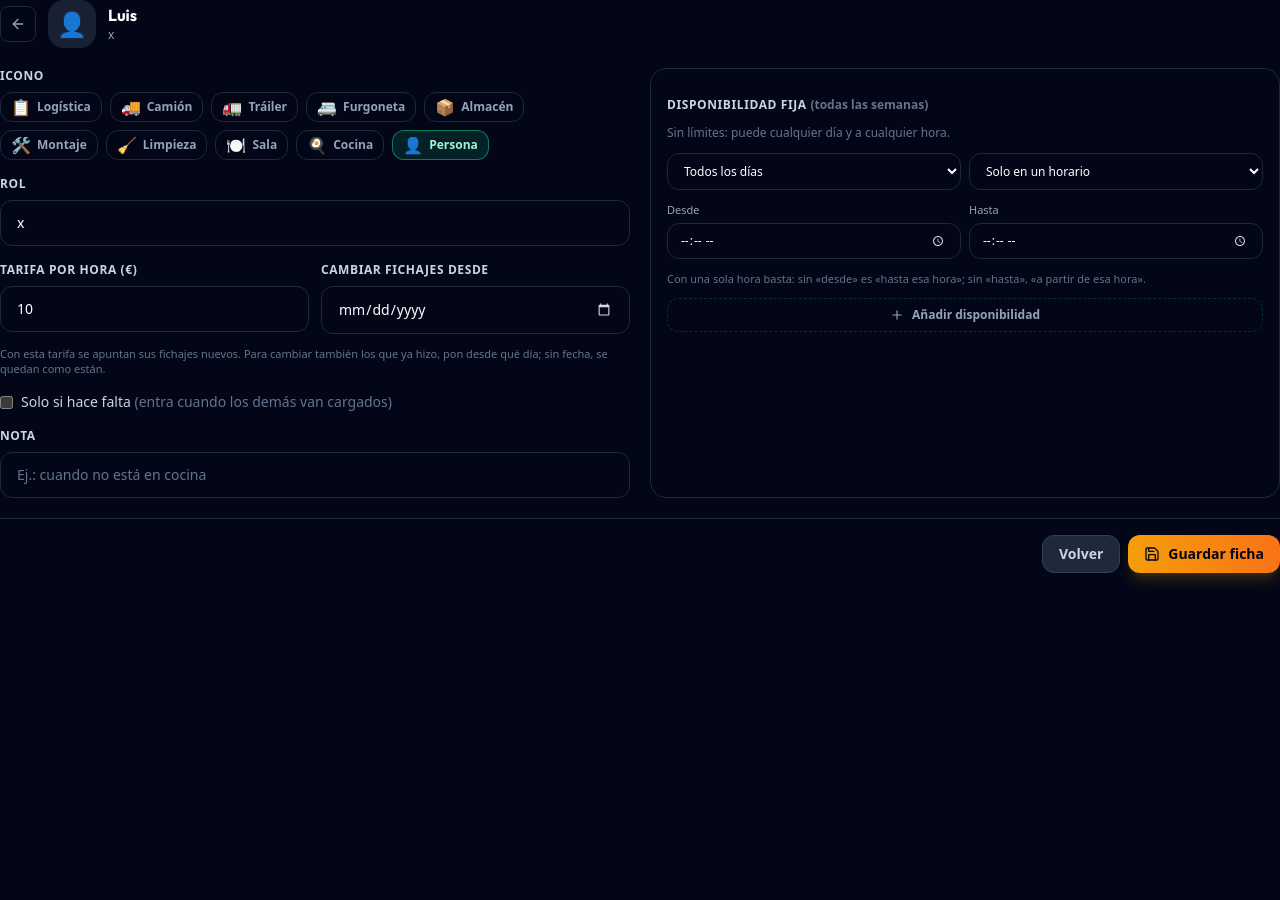
FichaTrabajador — grupos de días › tarifa por hora › con «desde el día 4», pregunta antes y cambia solo sus fichajes de ese día en adelante
Replace the text in the number field labelled "Tarifa por hora (€)" with "12": (154, 309) [0, 286, 309, 332]
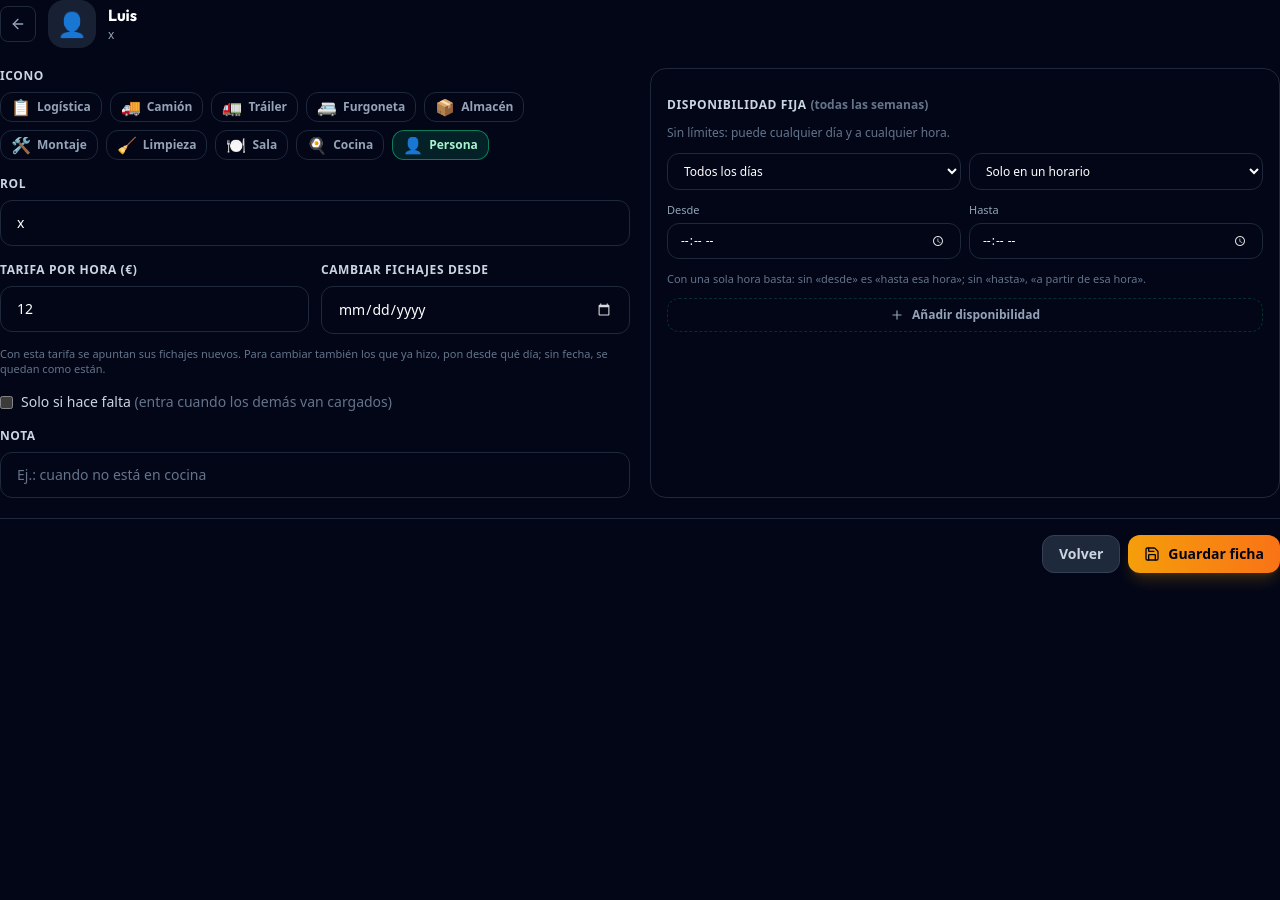
In the date field labelled "Cambiar fichajes desde": (476, 310) [321, 286, 630, 334], type "2026-10-04"
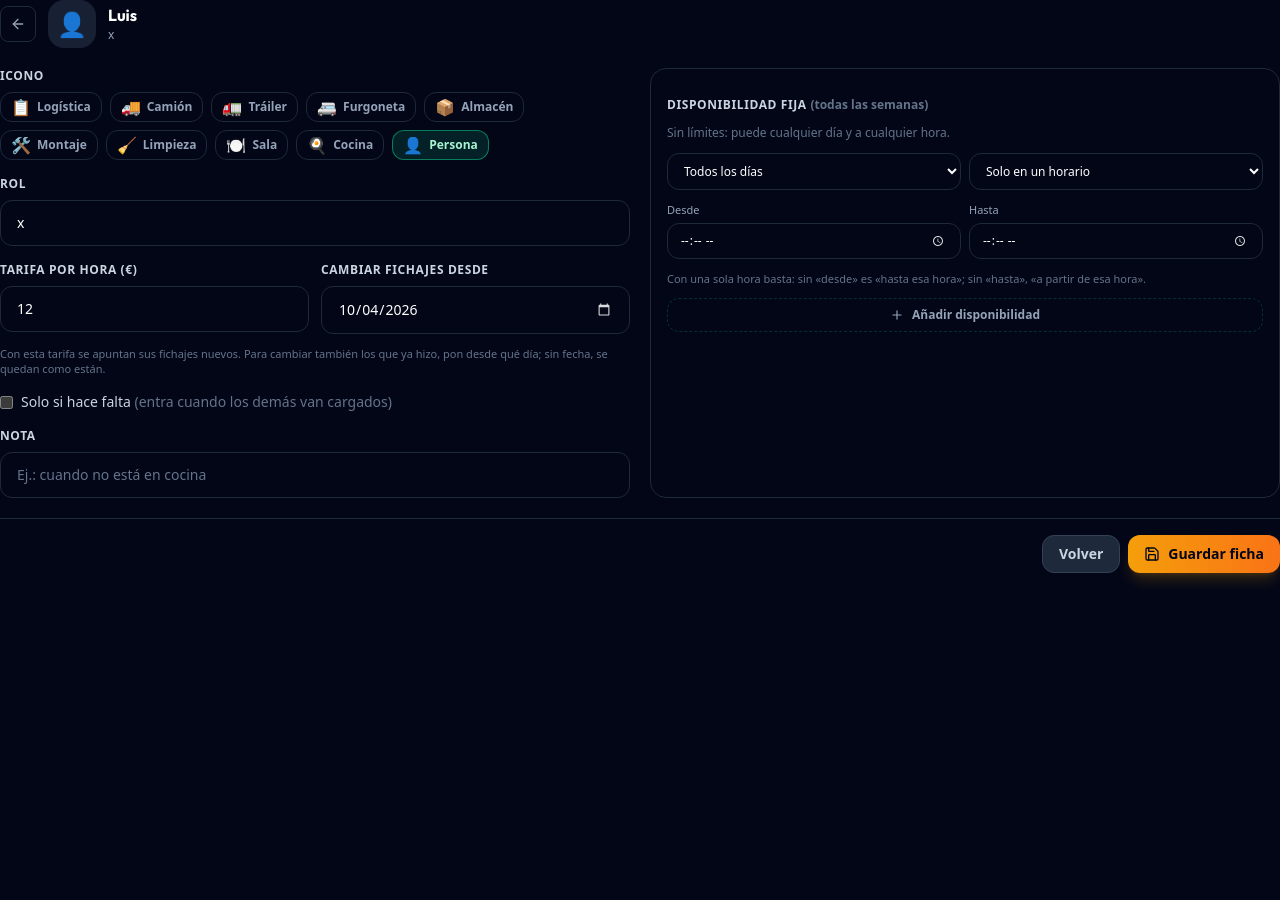
Click the button "Guardar ficha": (1204, 554) [1128, 535, 1279, 573]
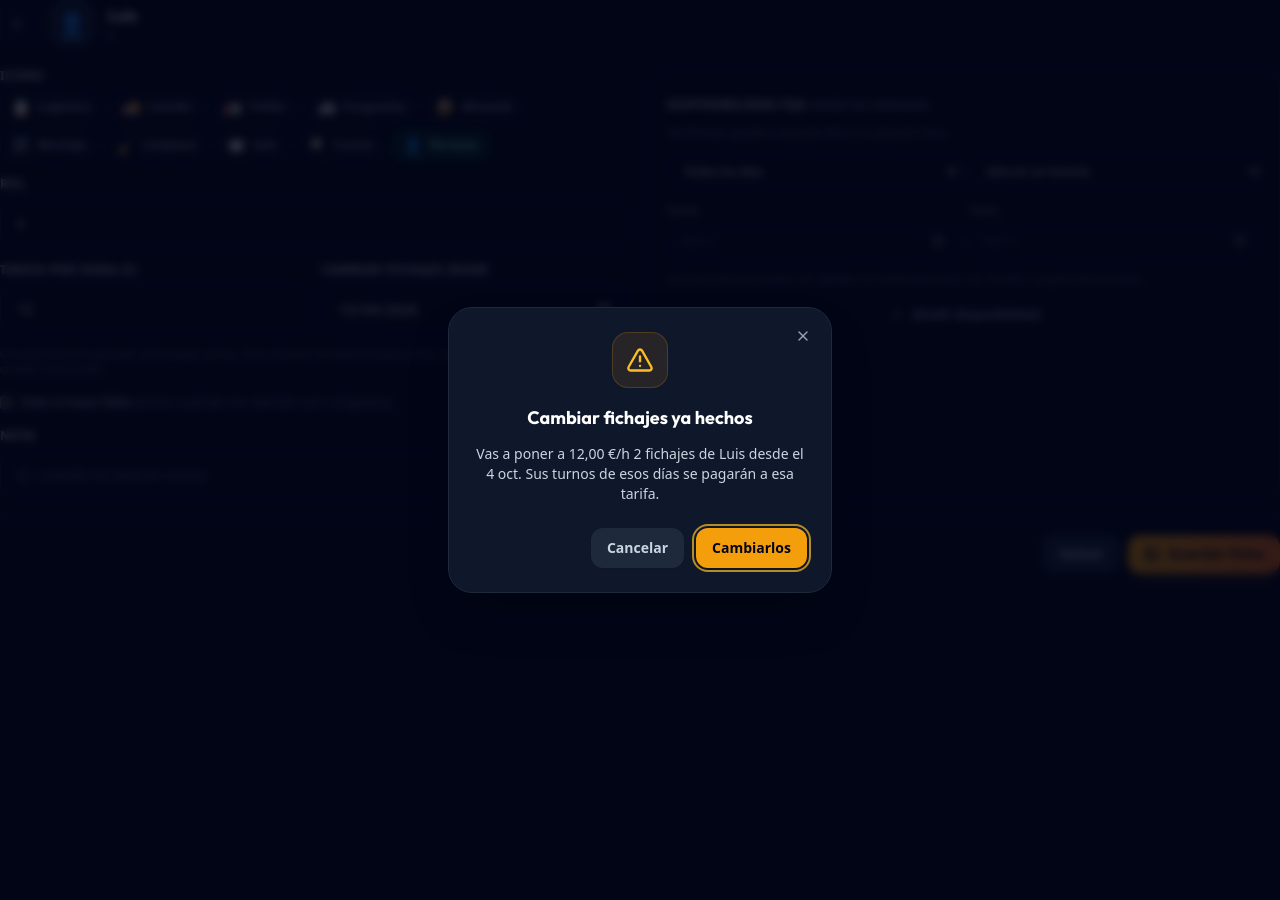
Result: the text "Vas a poner a 12,00 €/h 2 fichajes de Luis desde el 4 oct" is shown at [476, 444, 804, 503]
Click the button "Cambiarlos": (752, 548) [696, 528, 807, 568]
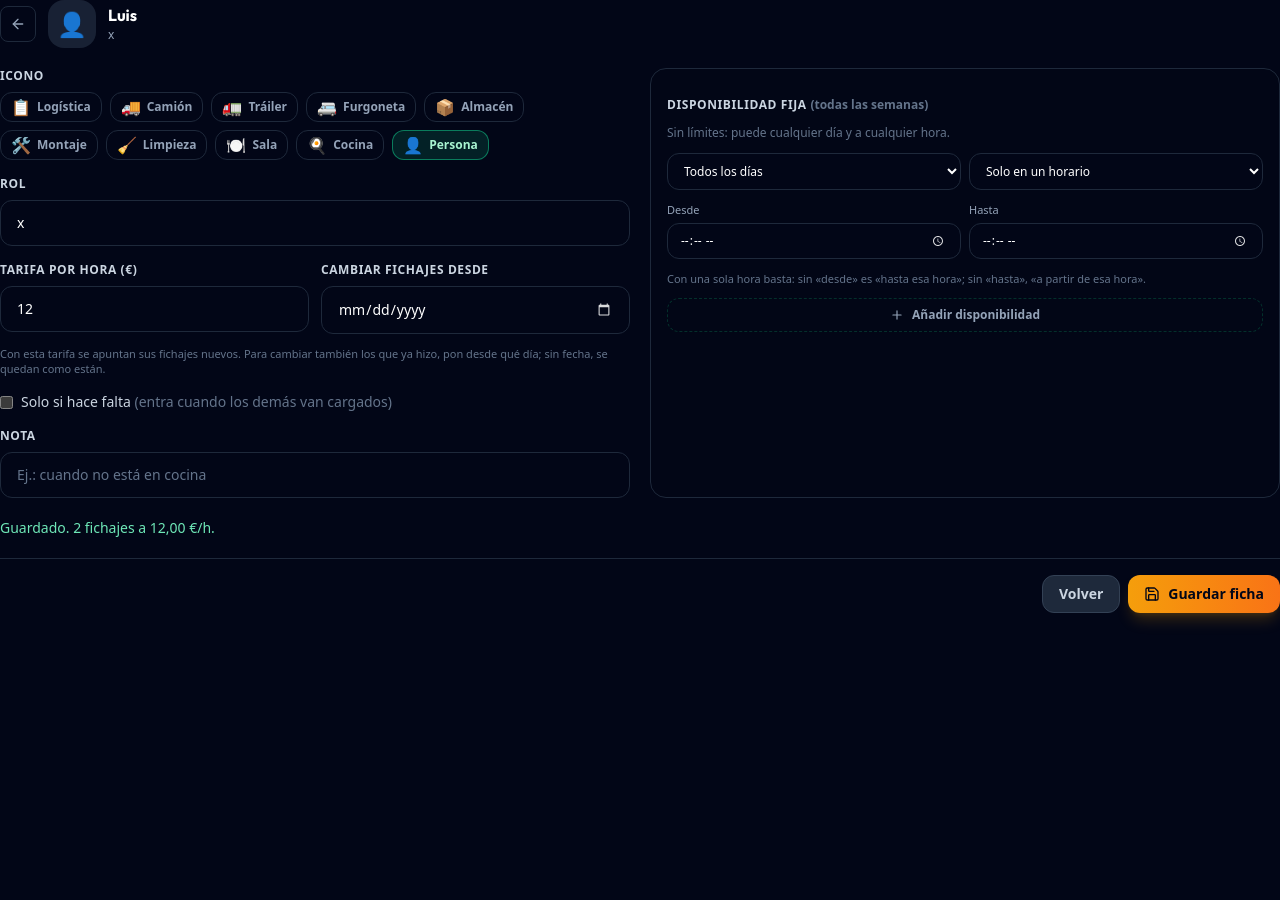
Result: the message reads "Guardado. 2 fichajes a 12,00 €/h." at [0, 518, 215, 537]
Result: the date field labelled "Cambiar fichajes desde" is empty at [321, 286, 630, 334]
